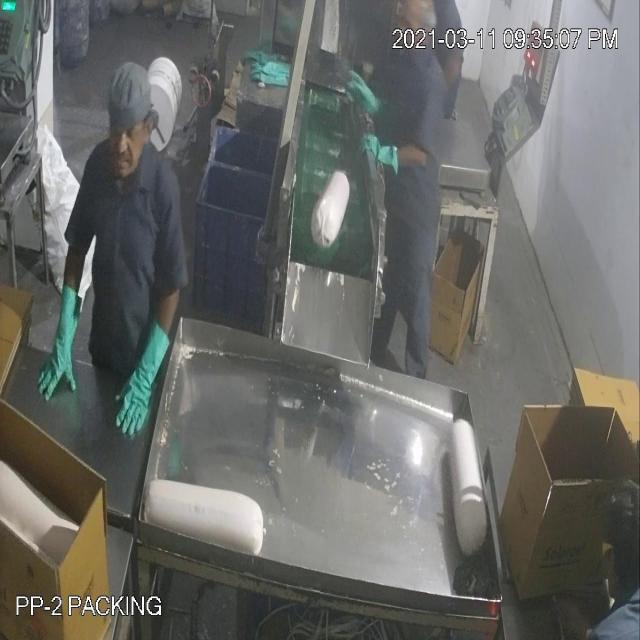Gloves: (38, 58, 380, 381)
